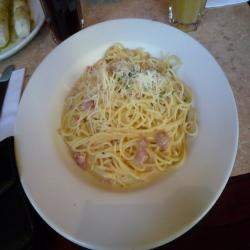carbonara: (57, 45, 205, 189)
